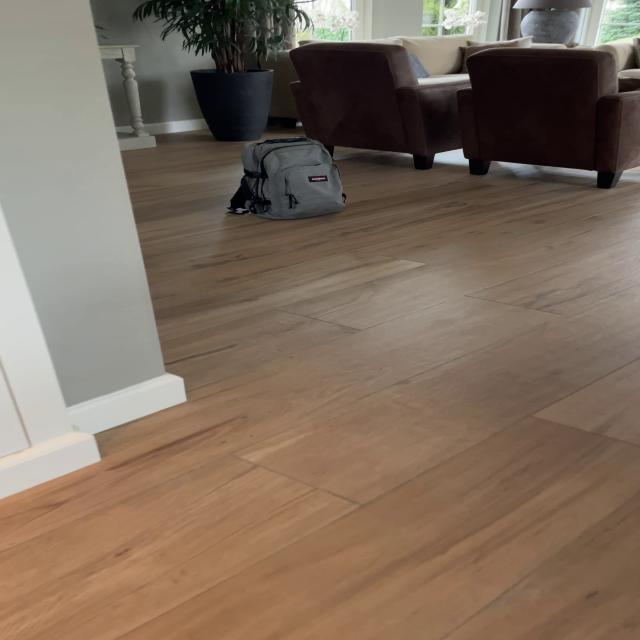backpack: (225, 133, 352, 223)
